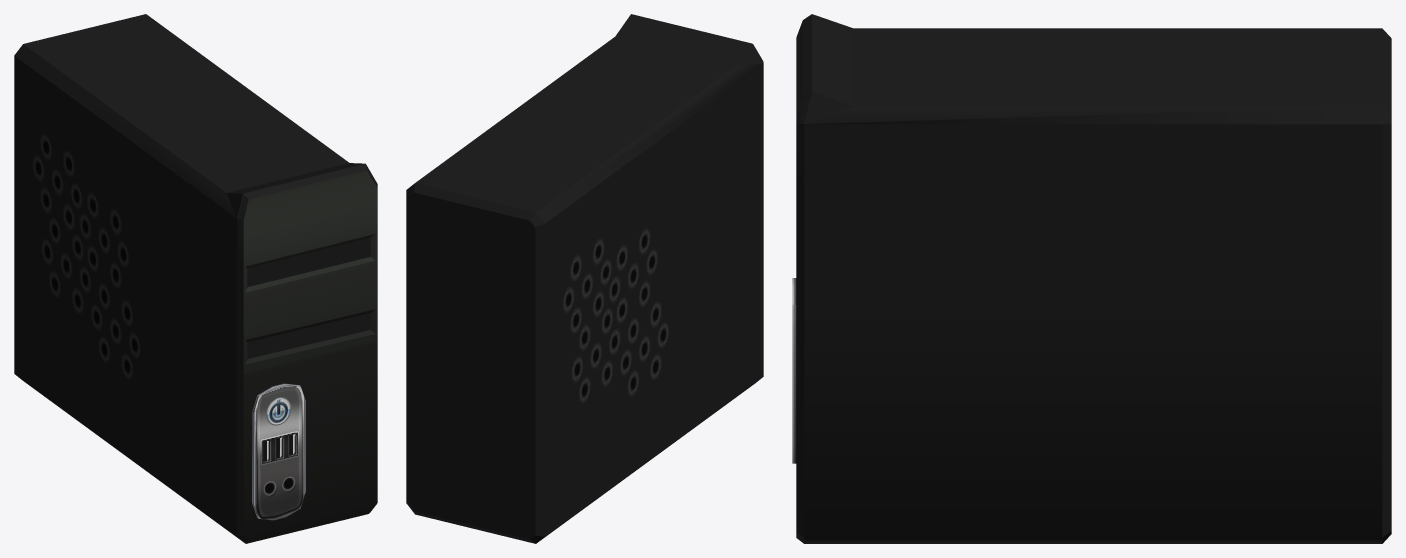
Rendered from Computer_Tower.FBX.
3 renders of one model, left to right at view 1: azimuth 30°, elevation 25°; view 2: azimuth 150°, elevation 25°; view 3: azimuth 270°, elevation 25°, orthographic. The views are drawn at different scales.
Visible parts, largest first — view 1: Computer_Tower; view 2: Computer_Tower; view 3: Computer_Tower.
Boxes of the visible parts, x1,y1,x2,y2 form: Computer_Tower: [14, 14, 377, 543]; Computer_Tower: [406, 14, 763, 543]; Computer_Tower: [792, 14, 1391, 543].
Bounding box in the file's own units: 42.63 × 101 × 121.
